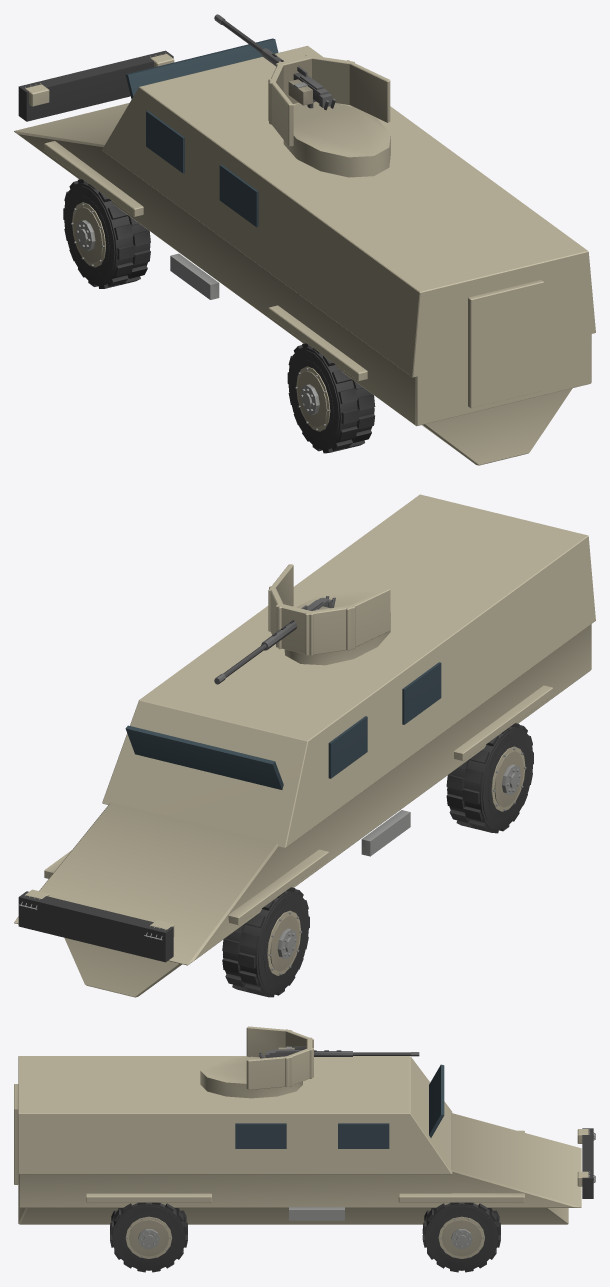
File: rus_mrap_tyu.glb
3 renders of one model, top to bottom at view 1: azimuth 30°, elevation 25°; view 2: azimuth 150°, elevation 25°; view 3: azimuth 270°, elevation 25°, orthographic. The views are drawn at different scales.
Parts seen in each view (by area): view 1: body, turret, wheel_2, wheel_0, barrel; view 2: body, turret, wheel_0, wheel_2, barrel; view 3: body, turret, wheel_1, wheel_3, barrel.
Part boxes in pixels (x1,y1,x2,y2): body: (14,38,595,465); turret: (268,54,390,177); wheel_2: (287,343,375,453); wheel_0: (63,179,150,288); barrel: (214,14,335,110); body: (14,494,595,997); turret: (268,564,390,665); wheel_0: (222,887,309,997); wheel_2: (446,723,533,833); barrel: (214,596,335,684); body: (14,1056,595,1224); turret: (200,1026,313,1098); wheel_1: (422,1202,500,1272); wheel_3: (110,1202,187,1272); barrel: (259,1046,419,1058).
Size of the model in its own units: 2.6 by 3.35 by 9.
